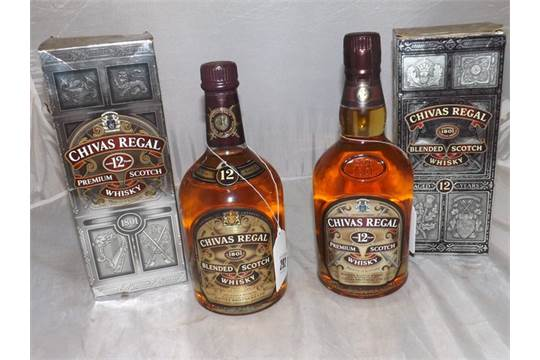Chivas Regal: (174, 58, 291, 319), (309, 29, 417, 301)
